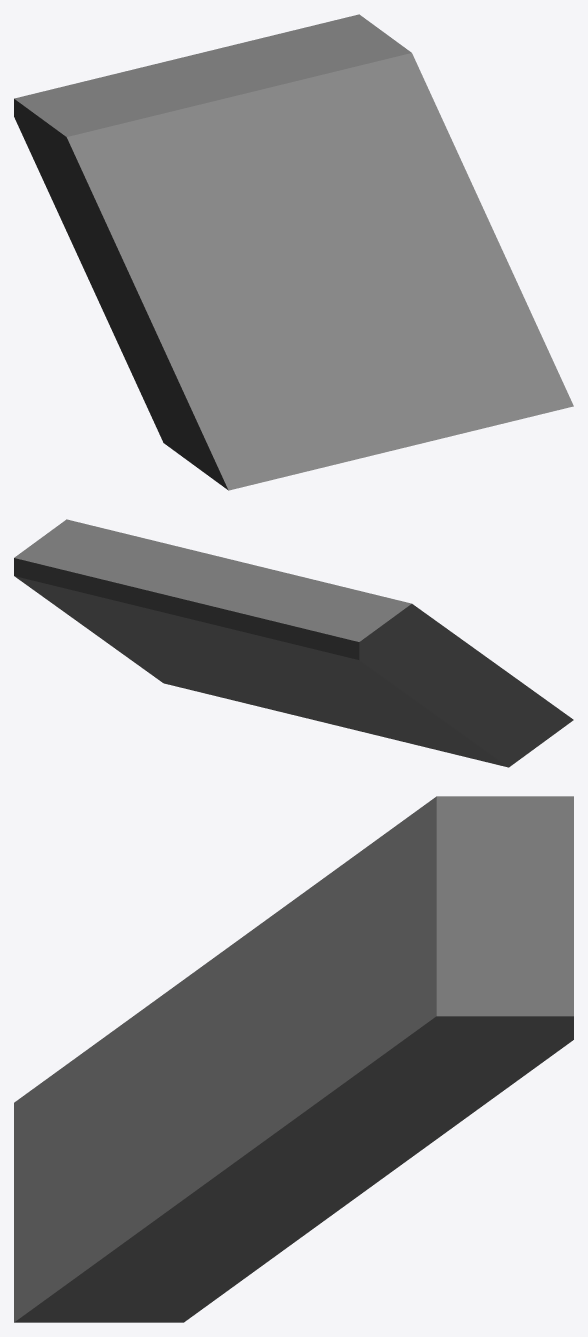
Rendered from SW_ENV_StationStair_Steps_3_Collision.fbx.
The picture shows the model from 3 angles, top to bottom: view 1: azimuth 30°, elevation 25°; view 2: azimuth 150°, elevation 25°; view 3: azimuth 270°, elevation 25°; orthographic projection. The views are drawn at different scales.
Visible parts, largest first — view 1: SW_ENV_StationStair_Steps_3_Collision; view 2: SW_ENV_StationStair_Steps_3_Collision; view 3: SW_ENV_StationStair_Steps_3_Collision.
Part boxes in pixels (x1,y1,x2,y2): SW_ENV_StationStair_Steps_3_Collision: (14, 14, 573, 490); SW_ENV_StationStair_Steps_3_Collision: (14, 519, 573, 767); SW_ENV_StationStair_Steps_3_Collision: (14, 796, 573, 1322).
Bounding box in the file's own units: 100 × 65 × 108.
